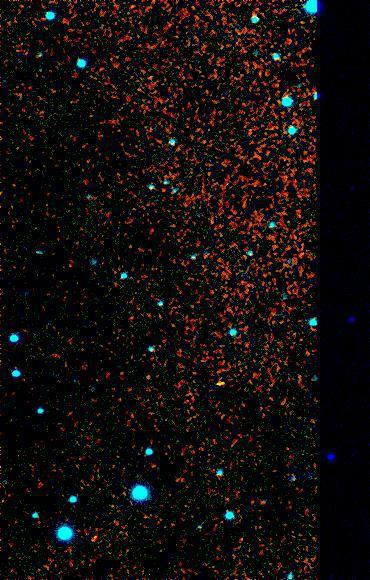star: (203, 367, 233, 397)
